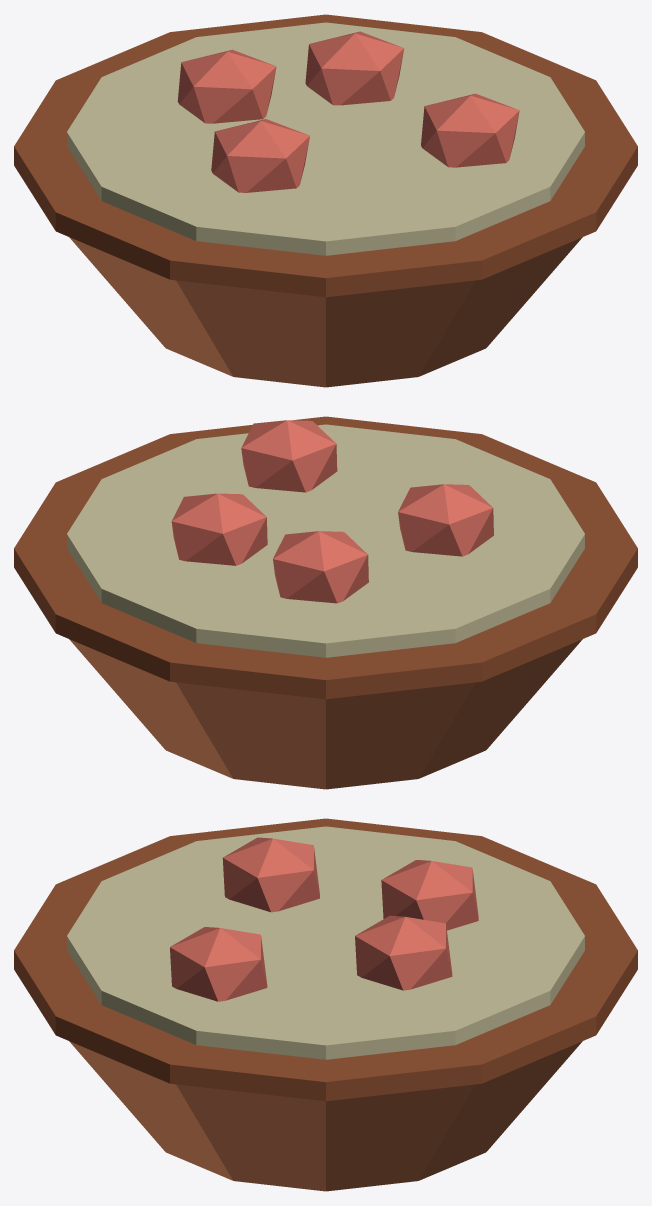
Rendered from drop_stew_raw.glb.
The picture shows the model from 3 angles, top to bottom: view 1: azimuth 30°, elevation 25°; view 2: azimuth 150°, elevation 25°; view 3: azimuth 270°, elevation 25°; orthographic projection.
Parts seen in each view (by area): view 1: drop_stew_raw; view 2: drop_stew_raw; view 3: drop_stew_raw.
Boxes of the visible parts, left/top/right/bottom form: drop_stew_raw: left=14, top=14, right=637, bottom=387; drop_stew_raw: left=14, top=416, right=637, bottom=789; drop_stew_raw: left=14, top=818, right=637, bottom=1191.
Size of the model in its own units: 0.236 by 0.096 by 0.236.
